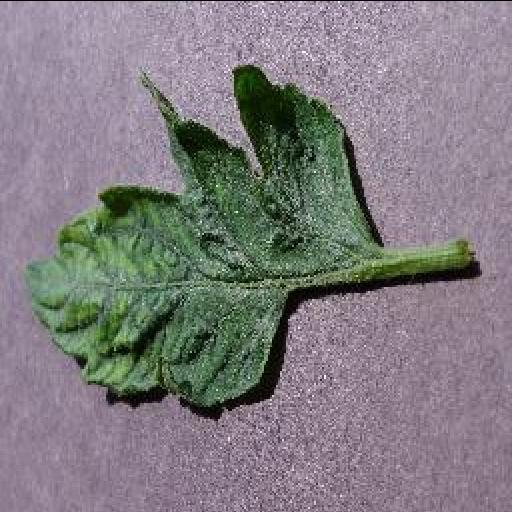disease_tomato: (24, 62, 378, 416)
